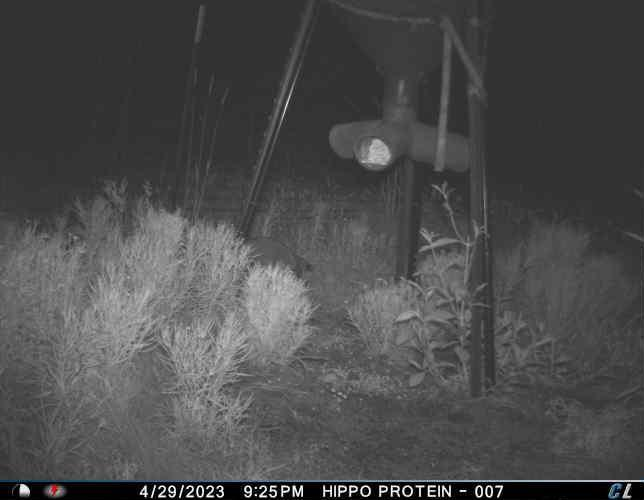Raccoon: (234, 234, 312, 281)
